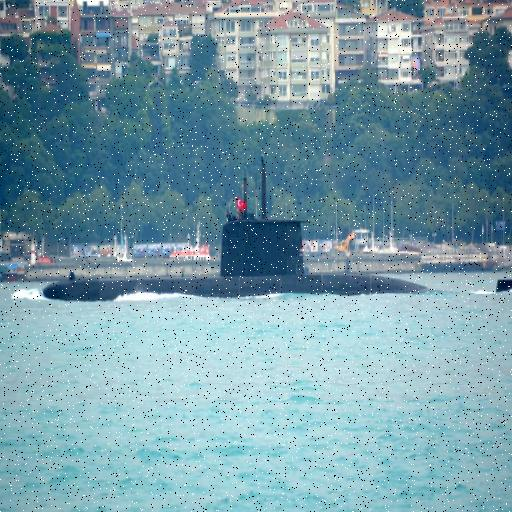submarine: (37, 217, 512, 300)
